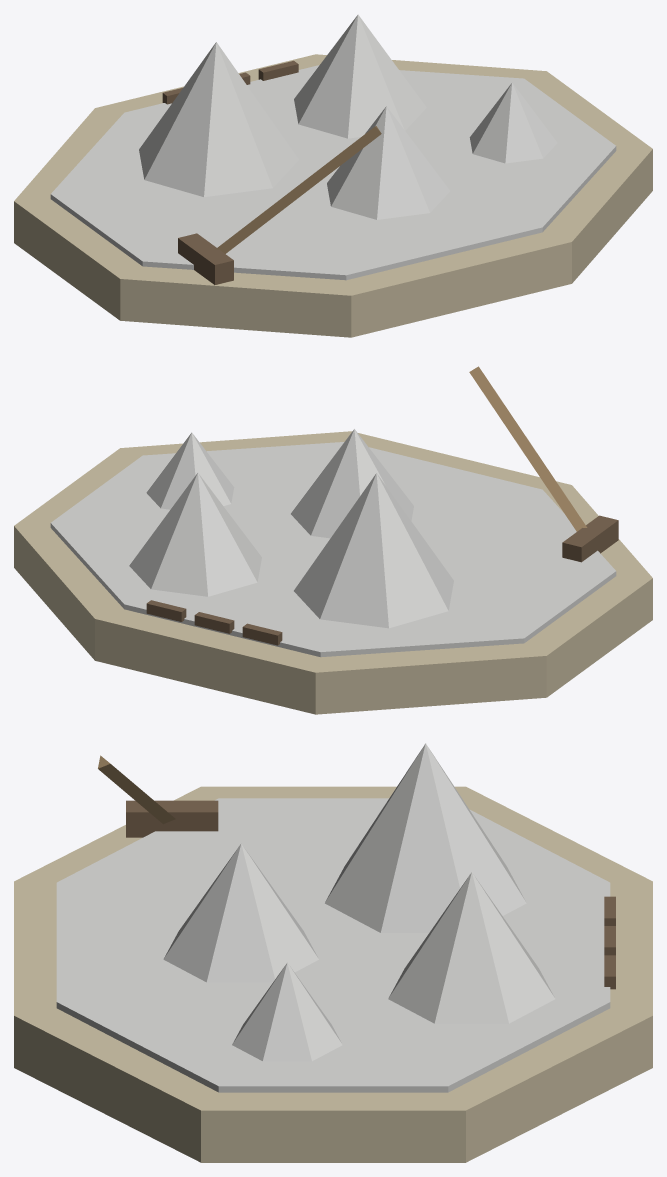
Rendered from salt.glb.
3 renders of one model, top to bottom at view 1: azimuth 30°, elevation 25°; view 2: azimuth 150°, elevation 25°; view 3: azimuth 270°, elevation 25°, orthographic. The views are drawn at different scales.
Visible parts, largest first — view 1: LOD0; view 2: LOD0; view 3: LOD0.
Part boxes in pixels (box(x1,y1,x2,y2)): LOD0: box(14, 14, 652, 337); LOD0: box(14, 366, 652, 714); LOD0: box(14, 743, 652, 1162).
Size of what is drawn, in the model's own units: 0.765 by 0.2356 by 0.6375.
